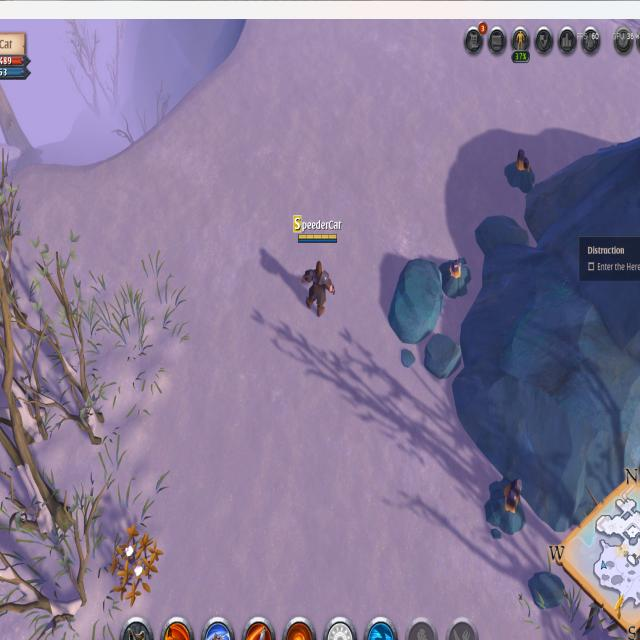copper: (482, 472, 530, 543), (502, 146, 537, 197), (440, 252, 472, 300)
cotton: (108, 523, 164, 605)
